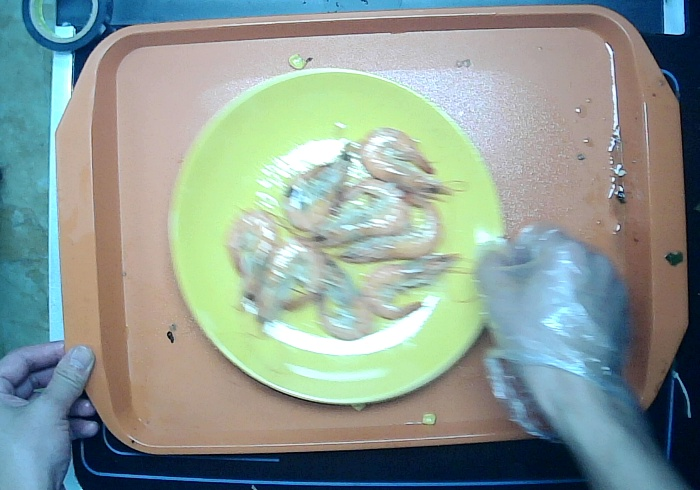HZYJPL-Huang_Se_Yuan_Pan: (166, 65, 508, 409)
